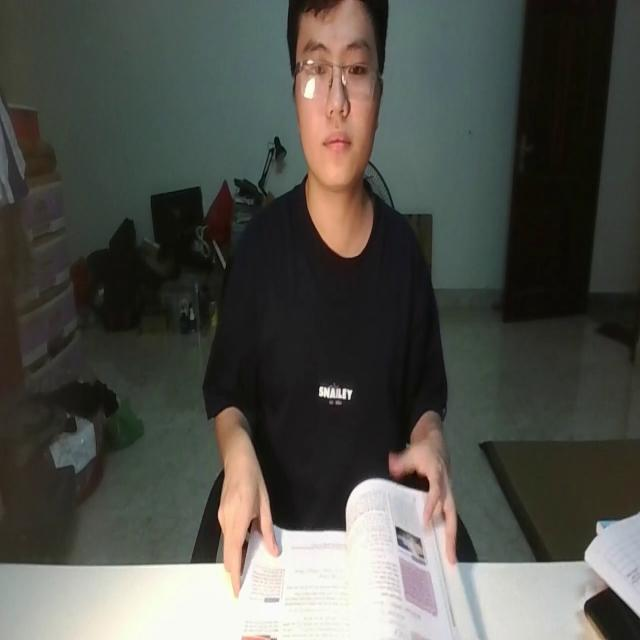book: (236, 477, 476, 640)
student: (202, 0, 466, 596)
